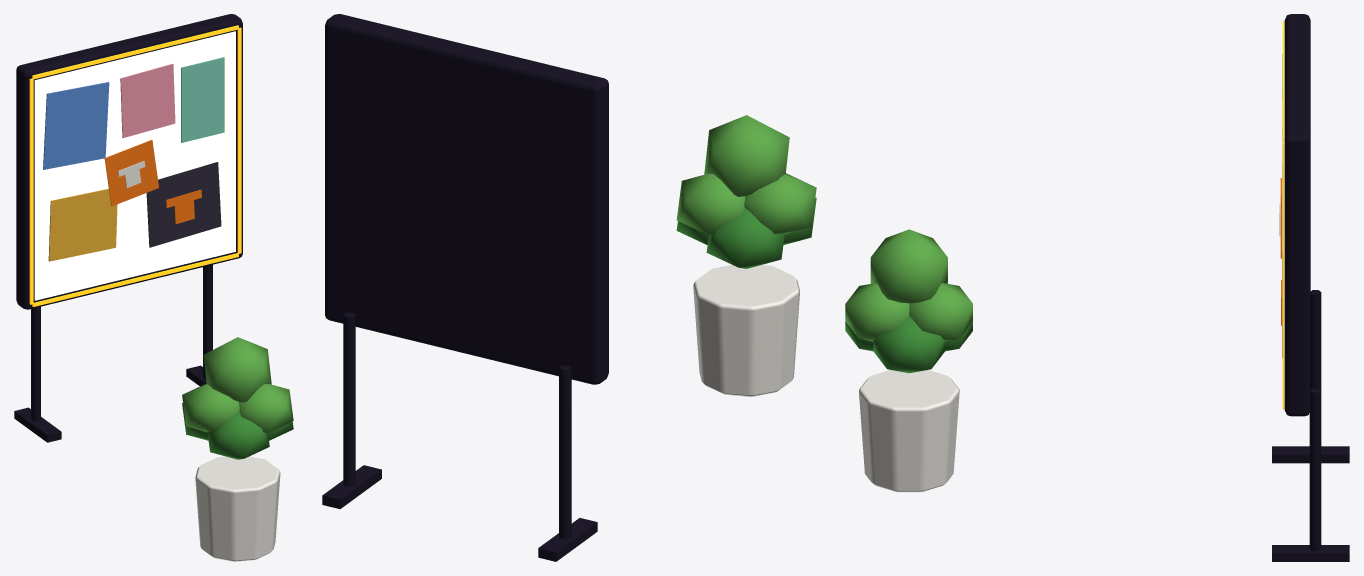
File: station_intake_ausstattung_3_3.glb
3 renders of one model, left to right at view 1: azimuth 30°, elevation 25°; view 2: azimuth 150°, elevation 25°; view 3: azimuth 270°, elevation 25°, orthographic. The views are drawn at different scales.
Parts seen in each view (by area): view 1: station_intake_ausstattung_3_3; view 2: station_intake_ausstattung_3_3; view 3: station_intake_ausstattung_3_3.
Part boxes in pixels (box(x1,y1,x2,y2)): station_intake_ausstattung_3_3: box(14, 14, 293, 561); station_intake_ausstattung_3_3: box(322, 14, 816, 561); station_intake_ausstattung_3_3: box(845, 14, 1349, 561).
Size of the model in its own units: 0.92 by 1.48 by 1.56.
